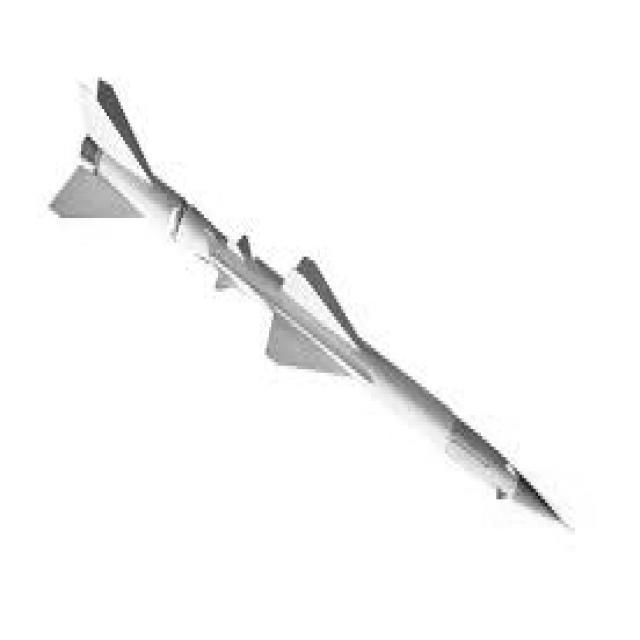missile: (51, 62, 563, 548)
